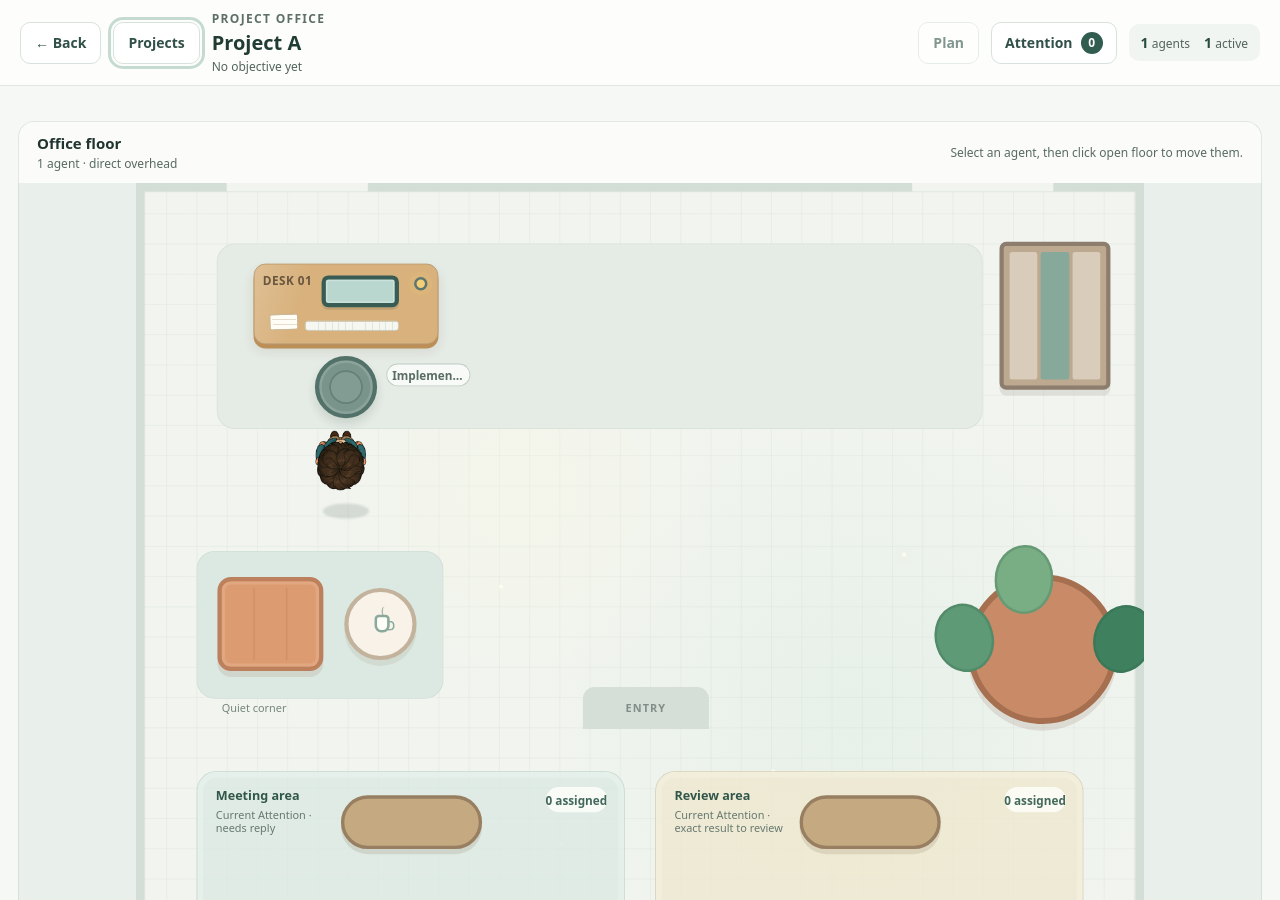
Test case: top-down project drawer modal › shows exact project action counts while retaining Live for a zero-action project
What coordinates should you click on to do the following:
click the button "Projects"
I would click on:
 (157, 42)
Its box is [113,22,200,64].
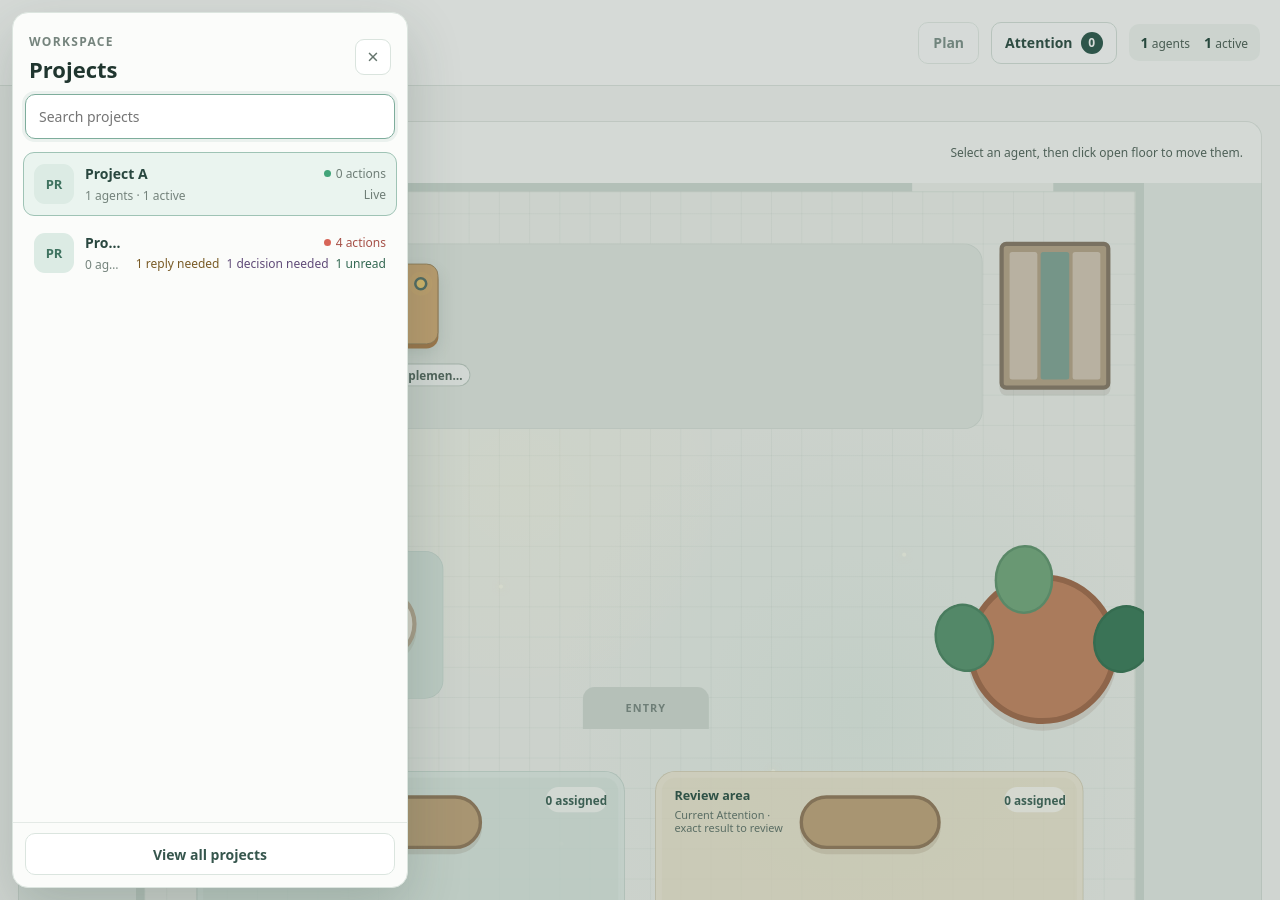
Check: the button "PR Project A 1 agents · 1 active 0 actions Live" is shown, box [23,152,397,216]
Check: the button with aria-label "Open Project B. 0 agents, 0 active. 4 current actions, 1 rep" shows "4 actions", box [23,221,397,285]
Check: the button with aria-label "Open Project B. 0 agents, 0 active. 4 current actions, 1 rep" shows "1 reply needed", box [23,221,397,285]
